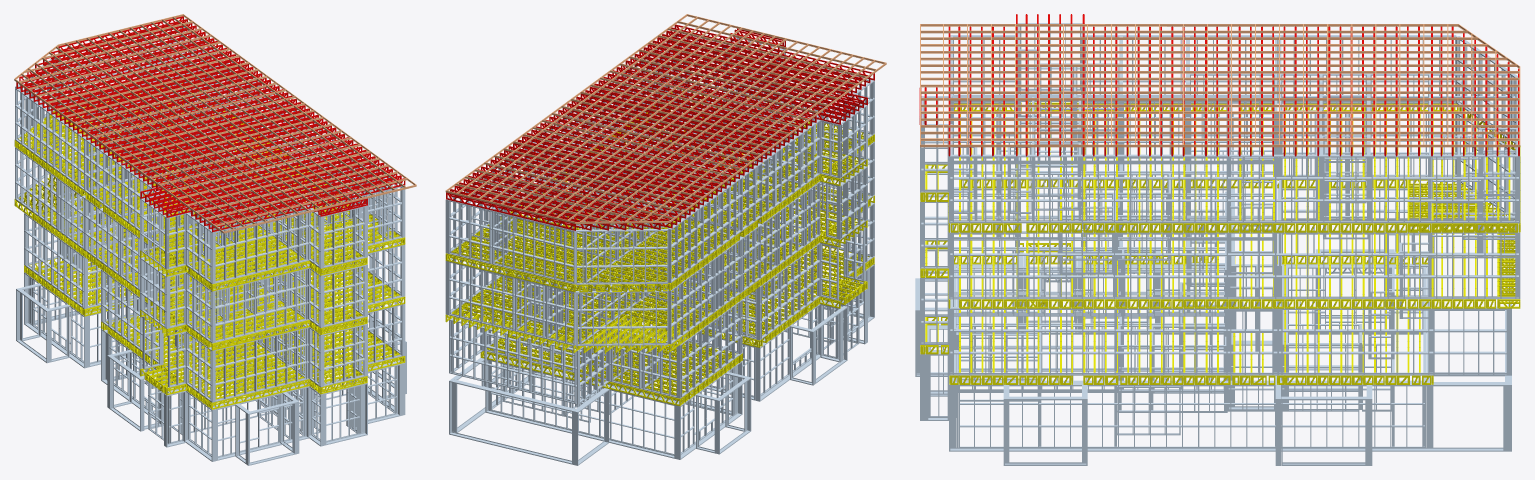
File: putnam.glb
3 renders of one model, left to right at view 1: azimuth 30°, elevation 25°; view 2: azimuth 150°, elevation 25°; view 3: azimuth 270°, elevation 25°, orthographic. The views are drawn at different scales.
Parts seen in each view (by area): view 1: part_00, part_02, part_03, part_01; view 2: part_00, part_02, part_03, part_01; view 3: part_00, part_02, part_01, part_03.
Boxes of the visible parts, x1,y1,x2,y2 form: part_00: [15, 26, 406, 465]; part_02: [14, 82, 405, 409]; part_03: [16, 16, 405, 232]; part_01: [14, 14, 416, 233]; part_00: [445, 33, 874, 465]; part_02: [445, 89, 874, 406]; part_03: [446, 24, 874, 230]; part_01: [445, 14, 886, 223]; part_00: [915, 23, 1520, 465]; part_02: [920, 90, 1520, 384]; part_01: [920, 24, 1520, 147]; part_03: [919, 14, 1519, 156].
Bounding box in the file's own units: 12.85 × 12.26 × 21.94.
